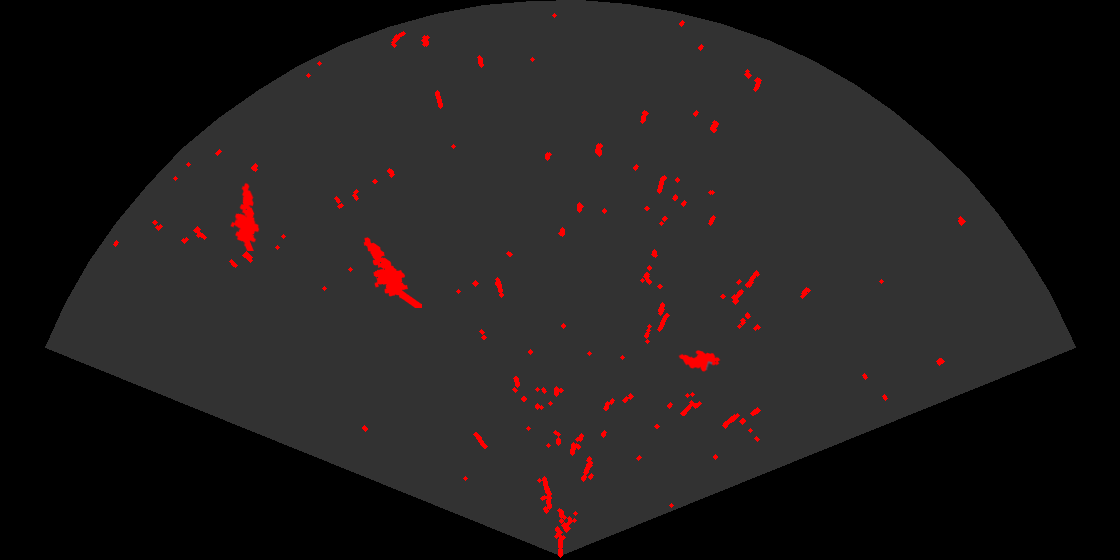AUV: (677, 349, 722, 374)
frogman: (362, 236, 422, 308), (229, 181, 261, 251)
